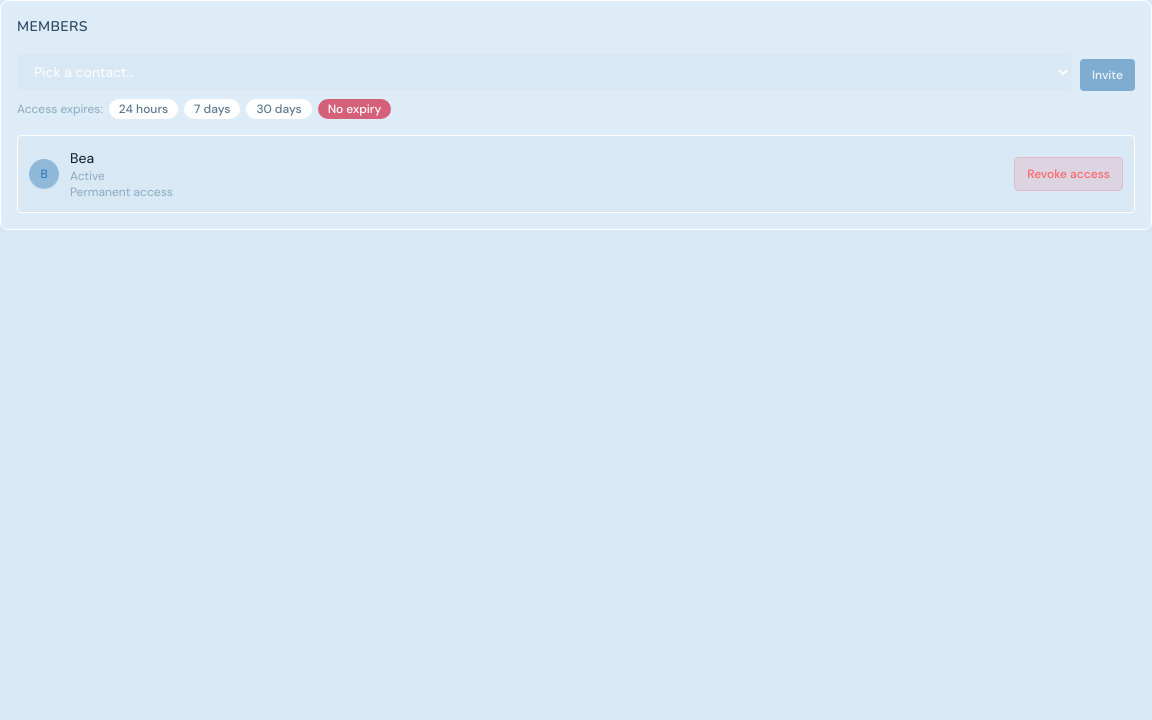
MembersPanel › revokes access only after confirmation
The image size is (1152, 720).
Check: the text "Bea" is shown, box [70,149,94,167]
What coordinates should you click on to do the following:
click the button "Revoke access"
I would click on:
 (1069, 174)
Its box is [1015,158,1122,190].
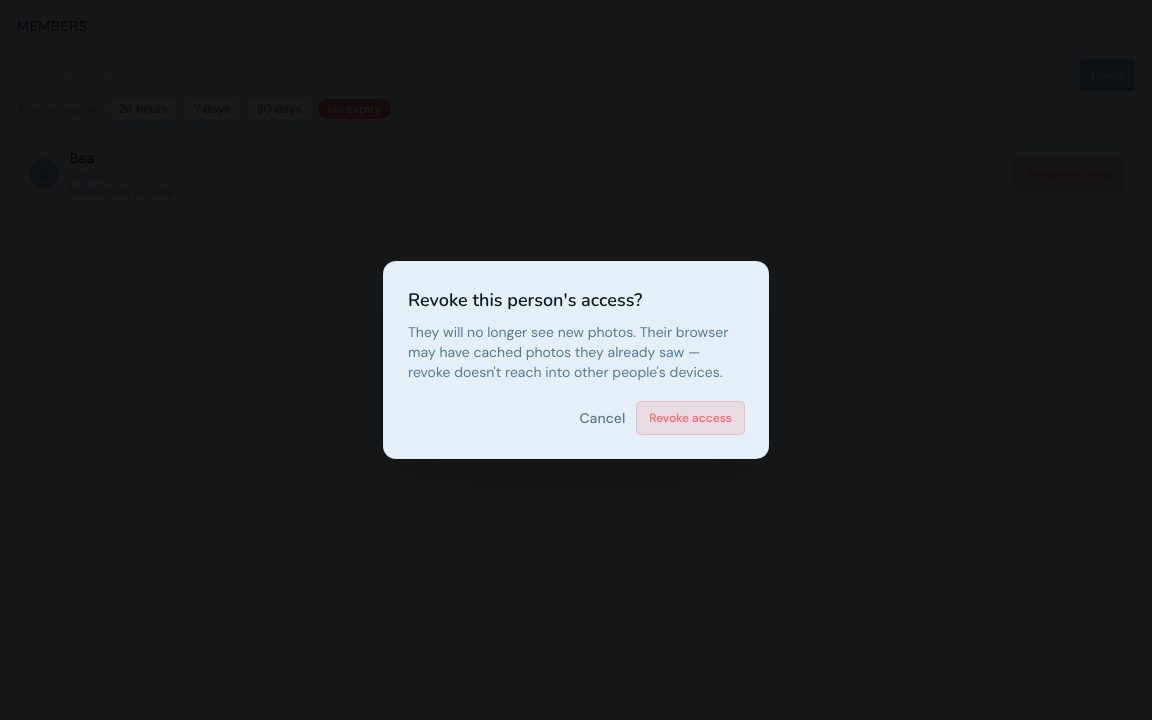
Check: the heading "Revoke this person's access?" is shown, box [408,288,642,312]
// The dialog's confirm button reuses the "Revoke access" label.
What coordinates should you click on to do the following:
click the button "Revoke access"
I would click on:
 (691, 418)
Its box is [637,402,744,434].
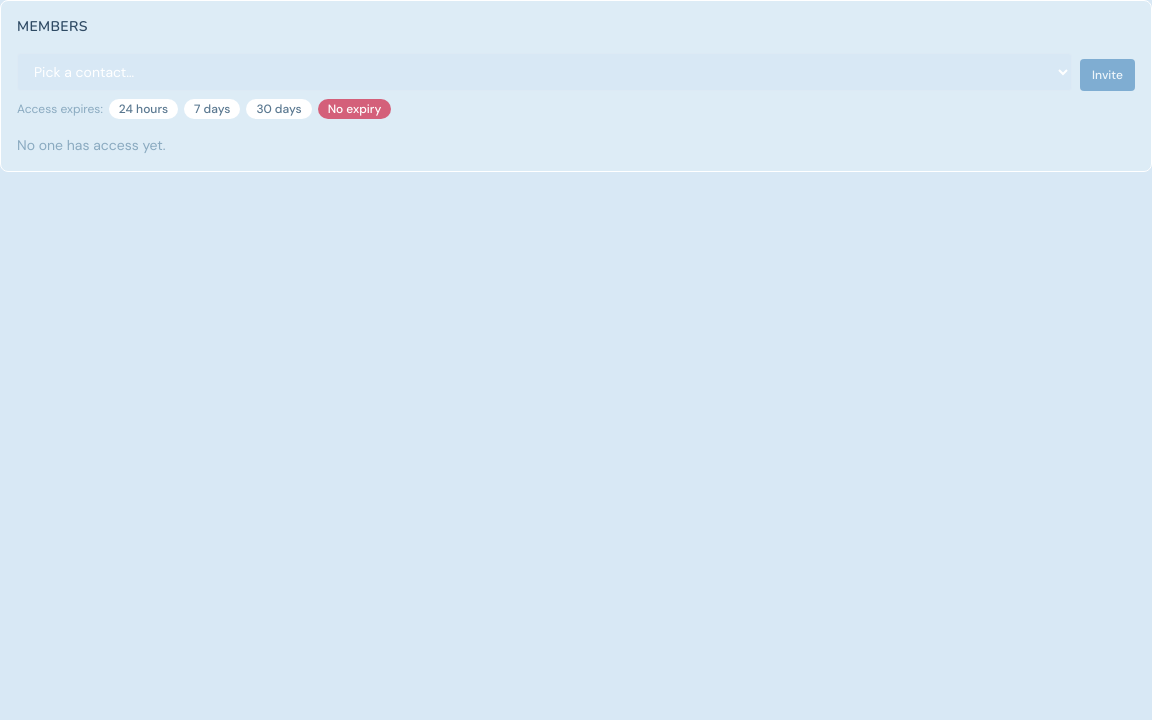
Check: the text "No one has access yet." is shown, box [17,136,166,154]
